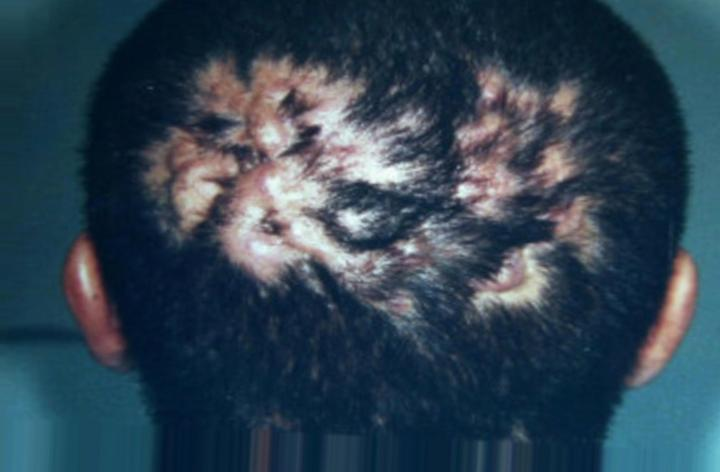Folliculitis: (156, 65, 603, 314)
